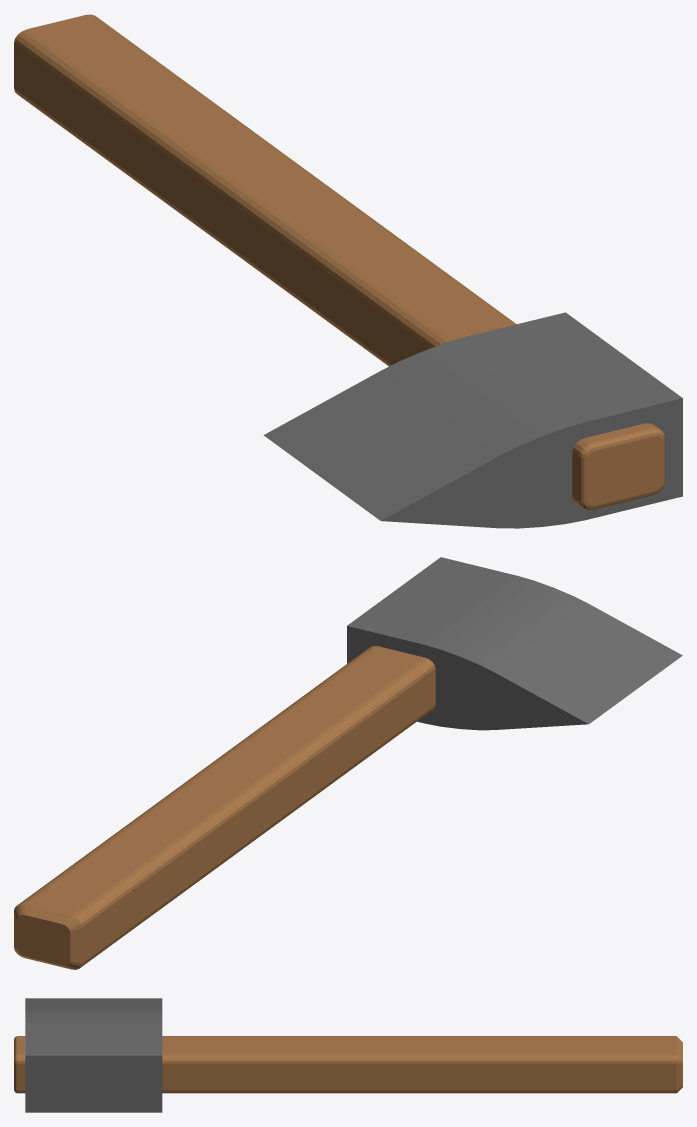
The model's file is Axe.fbx.
The picture shows the model from 3 angles, top to bottom: view 1: azimuth 30°, elevation 25°; view 2: azimuth 150°, elevation 25°; view 3: azimuth 270°, elevation 25°; orthographic projection. The views are drawn at different scales.
Visible parts, largest first — view 1: Axe_Handle, Axe_Top; view 2: Axe_Handle, Axe_Top; view 3: Axe_Handle, Axe_Top.
Part boxes in pixels (x1,y1,x2,y2): Axe_Handle: (14, 14, 664, 509); Axe_Top: (263, 312, 682, 528); Axe_Handle: (14, 646, 435, 969); Axe_Top: (347, 557, 682, 730); Axe_Handle: (14, 1036, 682, 1093); Axe_Top: (25, 998, 162, 1112).
Bounding box in the file's own units: 0.4941 × 0.1534 × 1.62.
